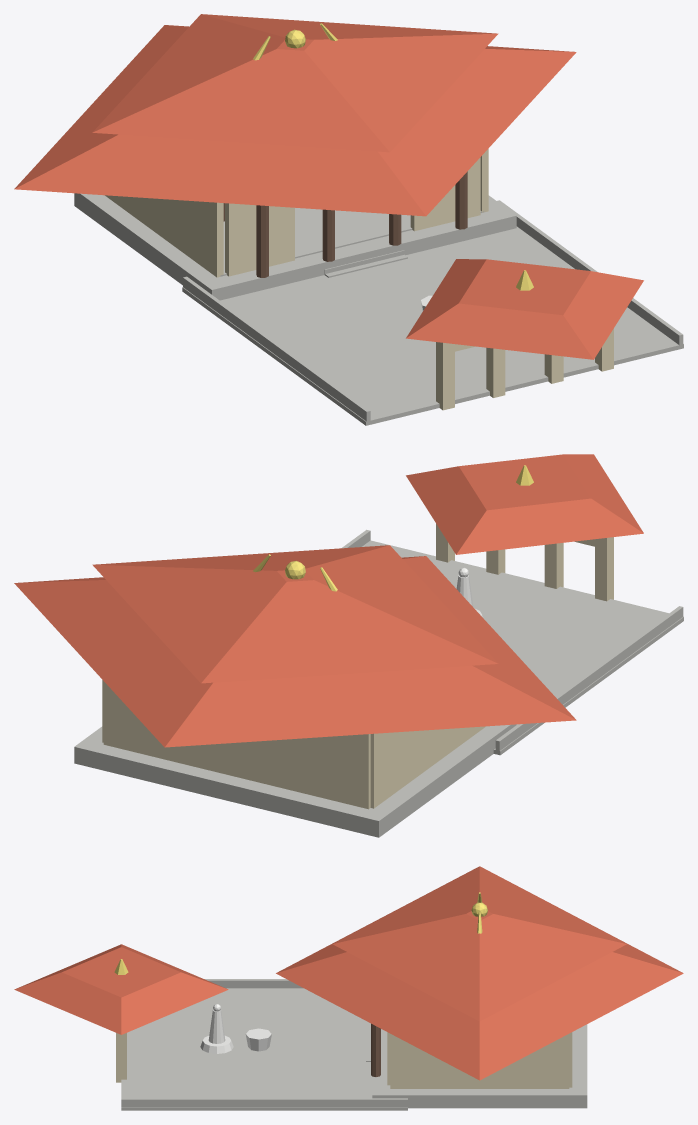
File: chua-linh-ung.glb
The picture shows the model from 3 angles, top to bottom: view 1: azimuth 30°, elevation 25°; view 2: azimuth 150°, elevation 25°; view 3: azimuth 270°, elevation 25°; orthographic projection. The views are drawn at different scales.
Visible parts, largest first — view 1: clu_roofs, clu_plaza, clu_walls, clu_timber, clu_gold; view 2: clu_roofs, clu_plaza, clu_walls, clu_gold; view 3: clu_roofs, clu_plaza, clu_walls, clu_marble, clu_timber, clu_gold.
Part boxes in pixels (box(x1,y1,x2,y2)): clu_roofs: box(14, 14, 643, 359); clu_plaza: box(74, 193, 683, 425); clu_walls: box(105, 149, 613, 410); clu_timber: box(223, 171, 467, 277); clu_gold: box(253, 23, 533, 290); clu_roofs: box(14, 454, 643, 747); clu_plaza: box(74, 529, 683, 837); clu_walls: box(102, 523, 613, 809); clu_gold: box(253, 465, 533, 591); clu_roofs: box(14, 866, 683, 1080); clu_plaza: box(121, 979, 587, 1110); clu_walls: box(116, 1032, 572, 1088); clu_marble: box(200, 1004, 271, 1053); clu_timber: box(371, 1023, 380, 1076); clu_gold: box(114, 892, 487, 974).
Bounding box in the file's own units: 42.48 × 13.66 × 56.1.
